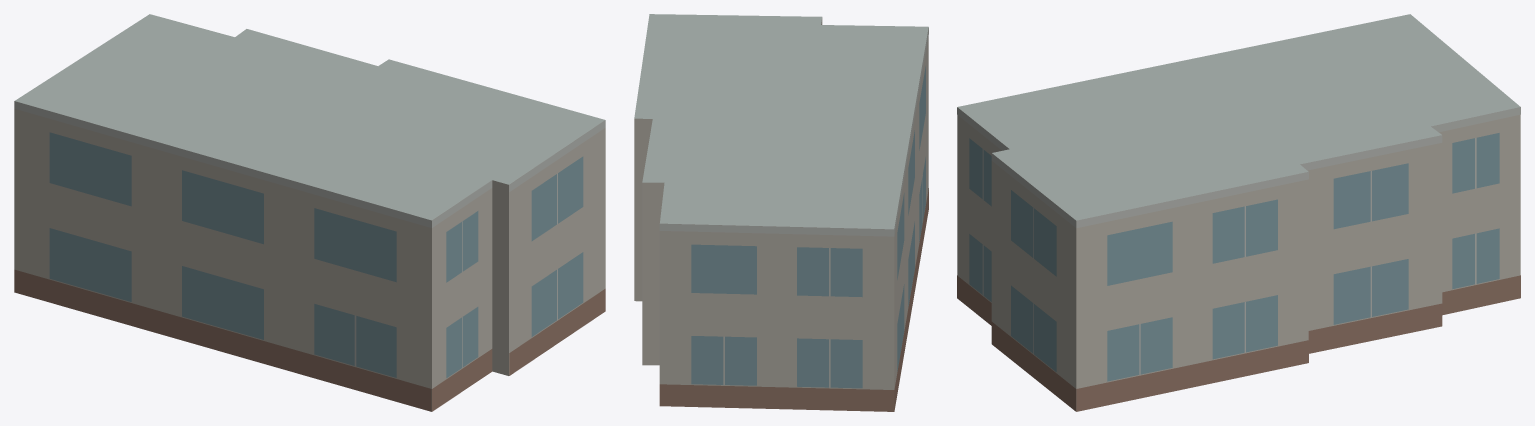
Rendered from survey-upis-32952264.glb.
3 views of the same model, side by side, from view 1: azimuth 30°, elevation 25°; view 2: azimuth 150°, elevation 25°; view 3: azimuth 270°, elevation 25° (orthographic). The views are drawn at different scales.
Parts seen in each view (by area): view 1: survey-upis-32952264.tmp; view 2: survey-upis-32952264.tmp; view 3: survey-upis-32952264.tmp.
Boxes of the visible parts, x1,y1,x2,y2 form: survey-upis-32952264.tmp: (14, 14, 605, 411); survey-upis-32952264.tmp: (634, 14, 928, 411); survey-upis-32952264.tmp: (957, 14, 1520, 411).
Size of the model in its own units: 14.15 by 6.1 by 16.31.
